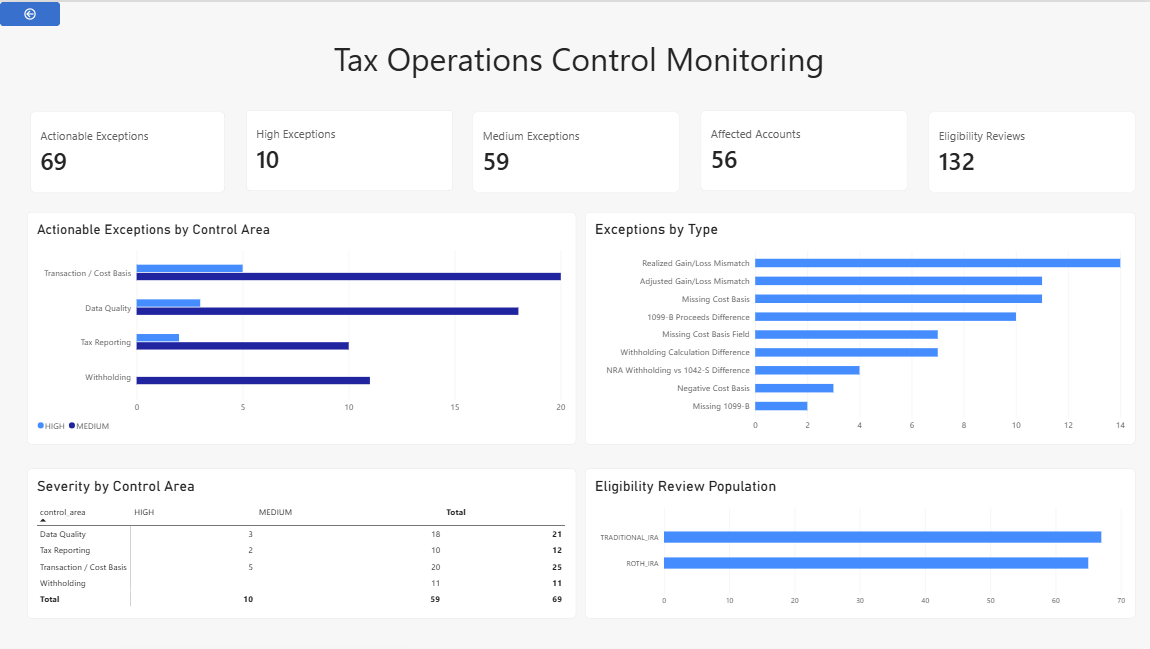

Layout of this report page (visuals, bound fields, positions):
{"tool":"powerbi","page":{"name":"Page 1","canvas":[1920,1080],"ordinal":0},"visuals":[{"type":"textbox","box":[10,0,1910,215],"z":0},{"type":"cardVisual","fields":{"Data":["tax_exception_report.Actionable Exceptions"]},"box":[50,183.3,325,215],"z":1000},{"type":"cardVisual","fields":{"Data":["tax_exception_report.High Exceptions"]},"box":[410,180,345,215],"z":2000},{"type":"cardVisual","fields":{"Data":["tax_exception_report.Medium Exceptions"]},"box":[786.7,183.3,345,215],"z":3000},{"type":"cardVisual","fields":{"Data":["tax_exception_report.Eligibility Reviews"]},"box":[1163.3,183.3,345,215],"z":4000},{"type":"cardVisual","fields":{"Data":["tax_exception_report.Affected Accounts"]},"box":[1546.7,183.3,345,215],"z":5000},{"type":"clusteredBarChart","title":"Actionable Exceptions by Control Area","fields":{"Category":["tax_exception_report.control_area"],"Series":["tax_exception_report.severity"],"Y":["CountNonNull(tax_exception_report.exception_id)"]},"box":[50,414,916,340],"z":6000},{"type":"actionButton","box":[0,0,100,40],"z":7000},{"type":"barChart","title":"Exceptions by Type","fields":{"Category":["tax_exception_report.exception_type"],"Y":["CountNonNull(tax_exception_report.exception_id)"]},"box":[974,414,918,340],"z":8000},{"type":"pivotTable","title":"Severity by Control Area","fields":{"Columns":["tax_exception_report.severity"],"Rows":["tax_exception_report.control_area"],"Values":["CountNonNull(tax_exception_report.exception_id)"]},"box":[50,786,476,250],"z":9000},{"type":"barChart","title":"Eligibility Review Population","fields":{"Category":["tax_exception_report.account_type"],"Y":["CountNonNull(tax_exception_report.exception_id)"]},"box":[973.3,766.7,920,270],"z":10000}]}

Visuals, with their boxes in screenshot pixels (x1, y1, x2, y2), scaled from the page's 1920x1080 canvas onto the 1150x649 screenshot:
textbox: <bbox>6, 0, 1149, 129</bbox>
cardVisual - tax_exception_report.Actionable Exceptions: <bbox>30, 110, 225, 239</bbox>
cardVisual - tax_exception_report.High Exceptions: <bbox>246, 108, 452, 237</bbox>
cardVisual - tax_exception_report.Medium Exceptions: <bbox>471, 110, 678, 239</bbox>
cardVisual - tax_exception_report.Eligibility Reviews: <bbox>697, 110, 903, 239</bbox>
cardVisual - tax_exception_report.Affected Accounts: <bbox>926, 110, 1133, 239</bbox>
"Actionable Exceptions by Control Area" clusteredBarChart: <bbox>30, 249, 579, 453</bbox>
actionButton: <bbox>0, 0, 60, 24</bbox>
"Exceptions by Type" barChart: <bbox>583, 249, 1133, 453</bbox>
"Severity by Control Area" pivotTable: <bbox>30, 472, 315, 623</bbox>
"Eligibility Review Population" barChart: <bbox>583, 461, 1134, 623</bbox>
